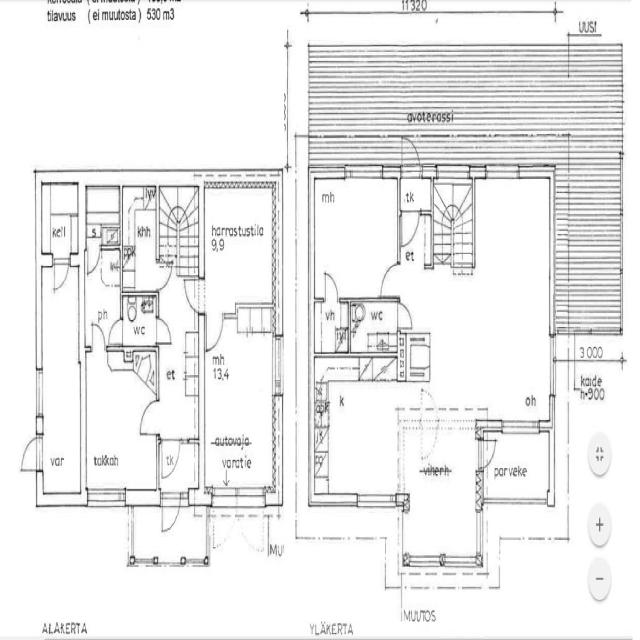door: (121, 292, 162, 352), (211, 507, 237, 552), (136, 396, 162, 439), (158, 436, 182, 482), (18, 434, 43, 476), (400, 132, 422, 179), (203, 310, 225, 355), (160, 492, 182, 535), (378, 259, 401, 300), (399, 207, 420, 247), (182, 276, 204, 314), (51, 254, 70, 295), (420, 424, 438, 464), (153, 314, 174, 348), (322, 268, 341, 304), (478, 436, 498, 470), (89, 319, 107, 355), (106, 315, 125, 349), (396, 298, 414, 332), (156, 260, 174, 292), (85, 244, 102, 277), (420, 387, 437, 413), (341, 162, 352, 185)
window: (270, 332, 286, 402), (86, 486, 127, 512), (355, 488, 396, 512), (546, 331, 559, 403), (441, 549, 476, 574), (500, 416, 541, 437), (406, 551, 443, 573), (33, 363, 46, 423), (485, 162, 519, 184), (474, 505, 486, 566), (544, 429, 554, 496), (346, 166, 384, 183), (314, 166, 344, 182)
zone: (399, 173, 554, 421), (202, 312, 276, 494), (401, 406, 484, 566), (314, 355, 402, 500), (311, 176, 402, 301), (83, 350, 159, 498), (200, 186, 276, 311), (40, 266, 80, 492), (483, 431, 550, 502), (120, 186, 157, 295), (86, 240, 121, 346), (38, 178, 80, 259), (348, 298, 400, 355), (121, 291, 158, 353), (86, 185, 122, 242), (313, 300, 349, 356), (398, 332, 431, 383), (158, 437, 182, 481)
